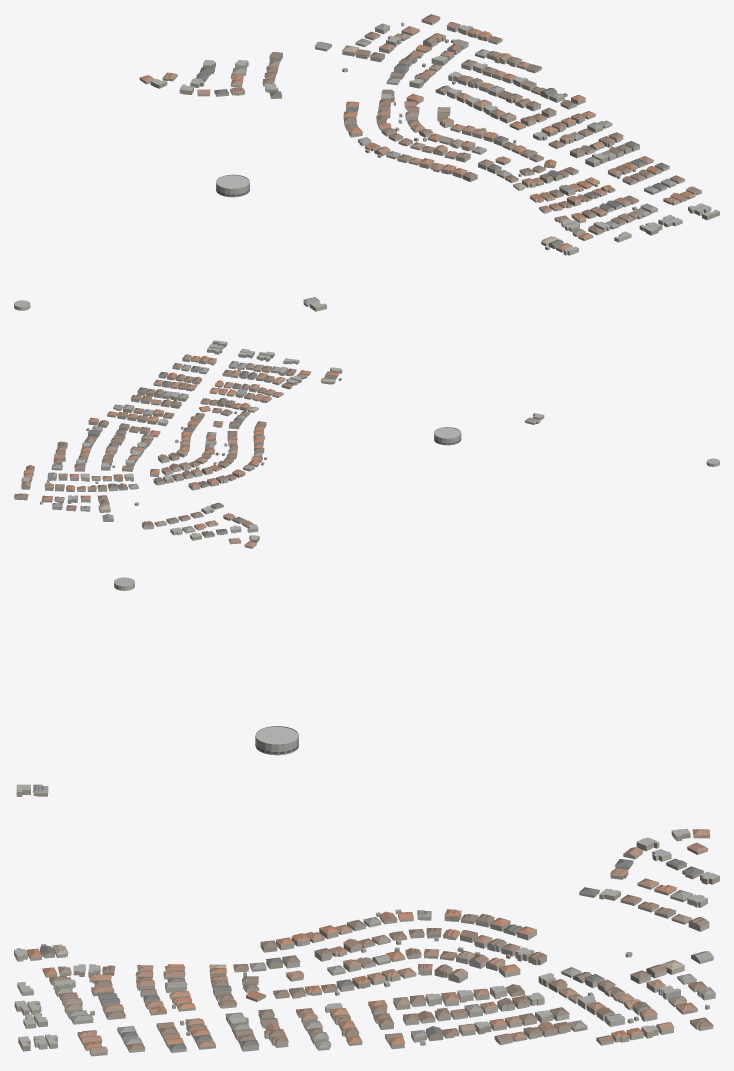
Rendered from buildings_r1_c4.glb.
3 views of the same model, one above another, from view 1: azimuth 30°, elevation 25°; view 2: azimuth 150°, elevation 25°; view 3: azimuth 270°, elevation 25° (orthographic). The views are drawn at different scales.
Visible parts, largest first — view 1: buildings_r1_c4; view 2: buildings_r1_c4; view 3: buildings_r1_c4.
Boxes of the visible parts, x1,y1,x2,y2 form: buildings_r1_c4: [14, 14, 719, 311]; buildings_r1_c4: [14, 340, 719, 548]; buildings_r1_c4: [14, 577, 719, 1056].
Size of the model in its own units: 1142 by 91.37 by 804.
